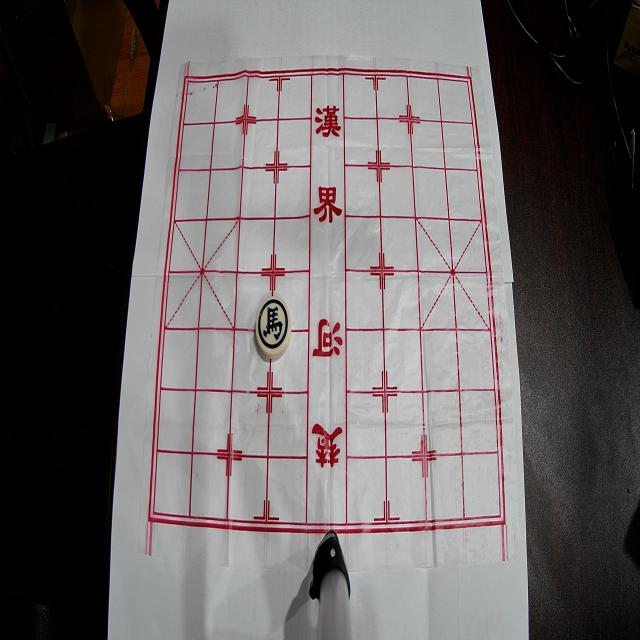black-horse: (255, 297, 291, 359)
